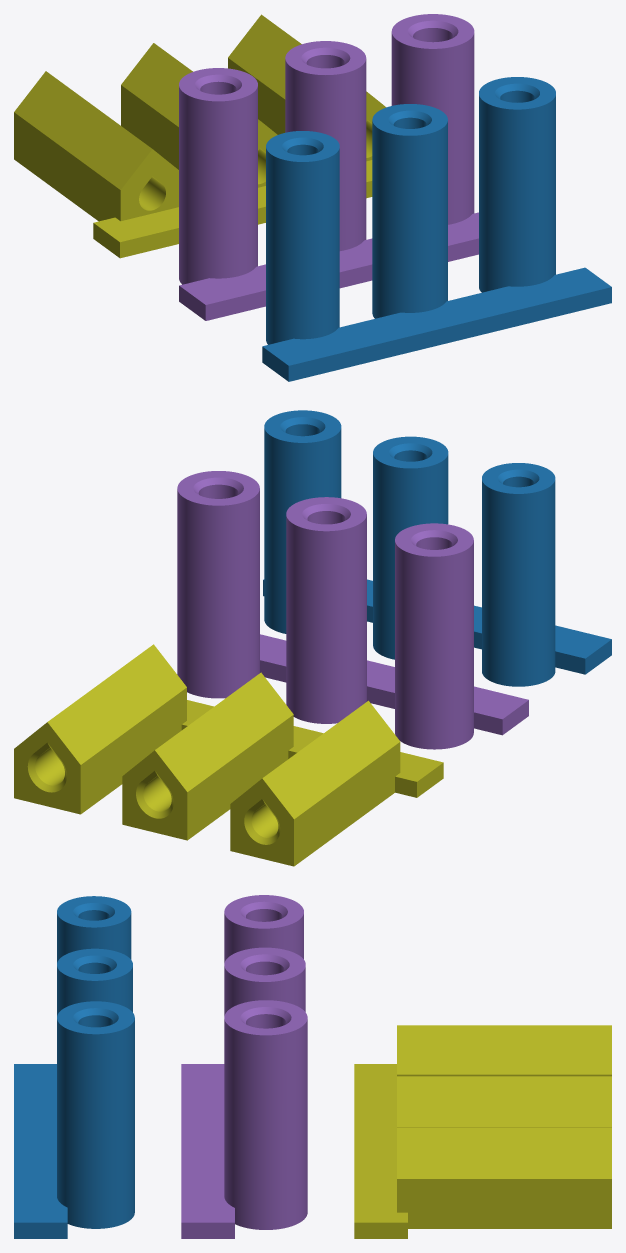
The model's file is clamp-pin-strip.glb.
The picture shows the model from 3 angles, top to bottom: view 1: azimuth 30°, elevation 25°; view 2: azimuth 150°, elevation 25°; view 3: azimuth 270°, elevation 25°; orthographic projection.
Parts seen in each view (by area): view 1: vertical, clearance, horizontal; view 2: clearance, horizontal, vertical; view 3: horizontal, clearance, vertical.
Boxes of the visible parts, bbox=[...] form: vertical: bbox=[262, 77, 611, 381]; clearance: bbox=[179, 14, 478, 320]; horizontal: bbox=[14, 14, 386, 258]; clearance: bbox=[177, 471, 528, 749]; horizontal: bbox=[14, 644, 443, 866]; vertical: bbox=[263, 410, 611, 686]; horizontal: bbox=[354, 1025, 611, 1238]; clearance: bbox=[181, 895, 307, 1238]; vertical: bbox=[14, 896, 134, 1238].
Bounding box in the file's own units: 0.021 × 0.012 × 0.0334.
